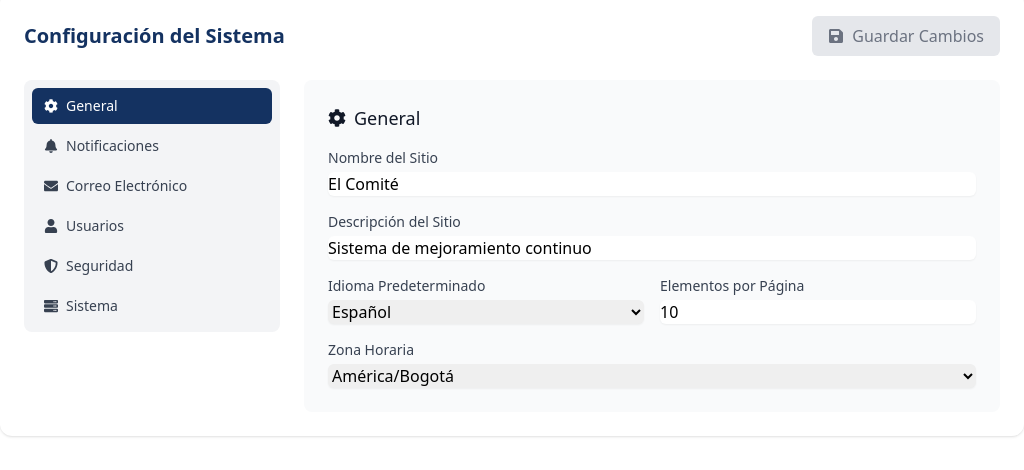
Scenario: ConfigurationManagement › should render System form when tab is clicked
Click the button "Sistema" at (152, 306), box [32,288,272,324]
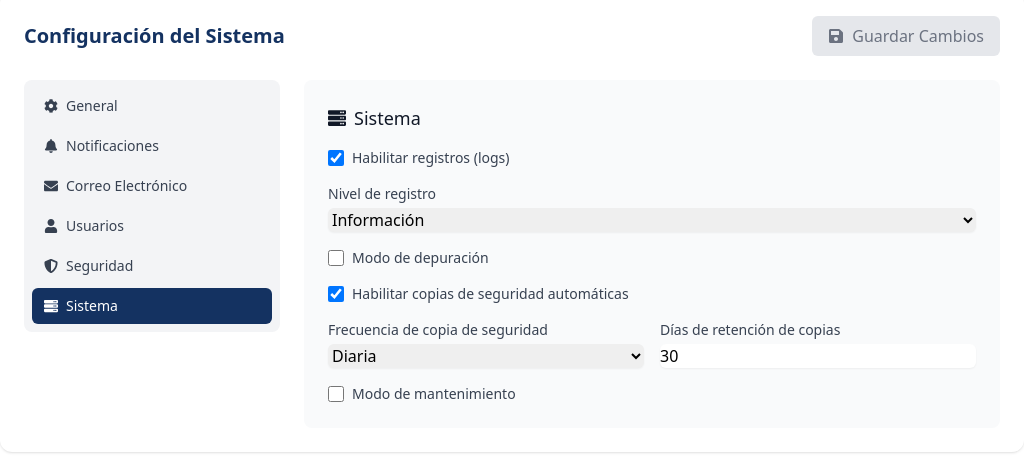
Expected: the checkbox labelled "Habilitar registros (logs)" is shown, [328,150,344,166]
Expected: the dropdown labelled "Nivel de registro" is shown
Select "Depuración" in the dropdown labelled "Nivel de registro" at (652, 220), box [328,208,976,232]
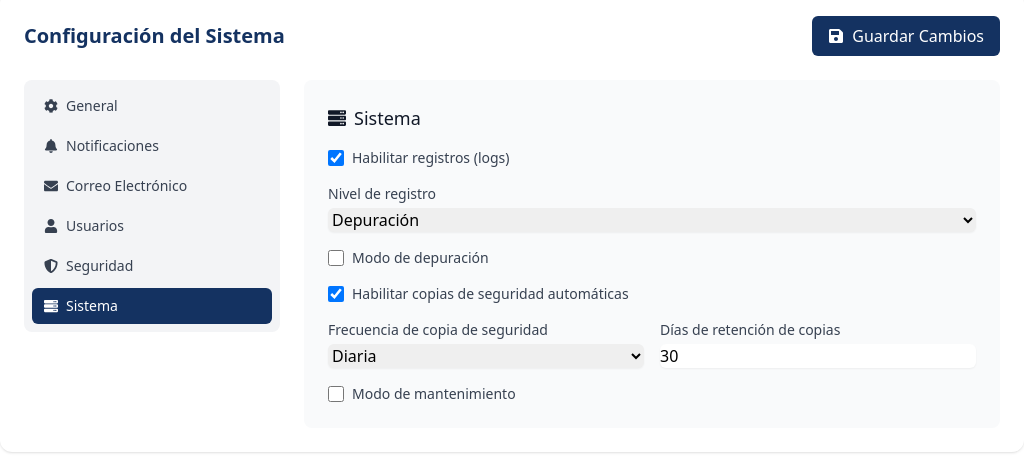
Expected: the button "Guardar Cambios" is enabled, [812,16,1000,56]
